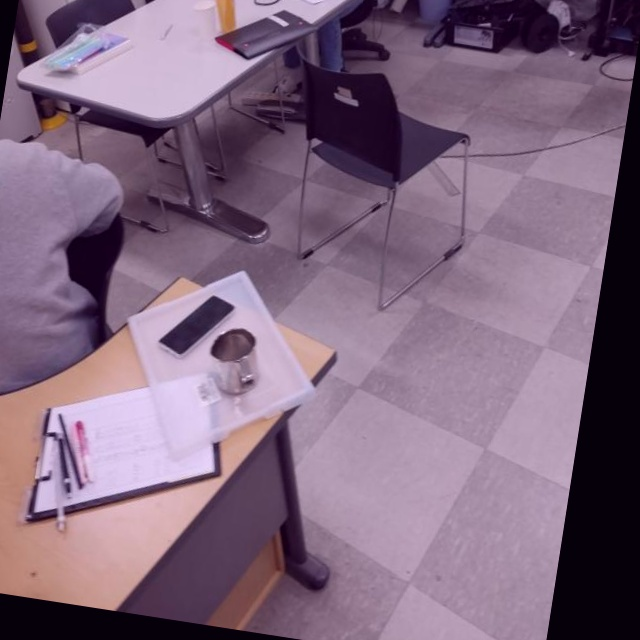cup: (204, 324, 269, 403)
phone: (156, 285, 239, 366)
